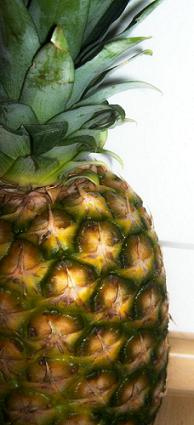pineapple: (0, 0, 172, 423)
